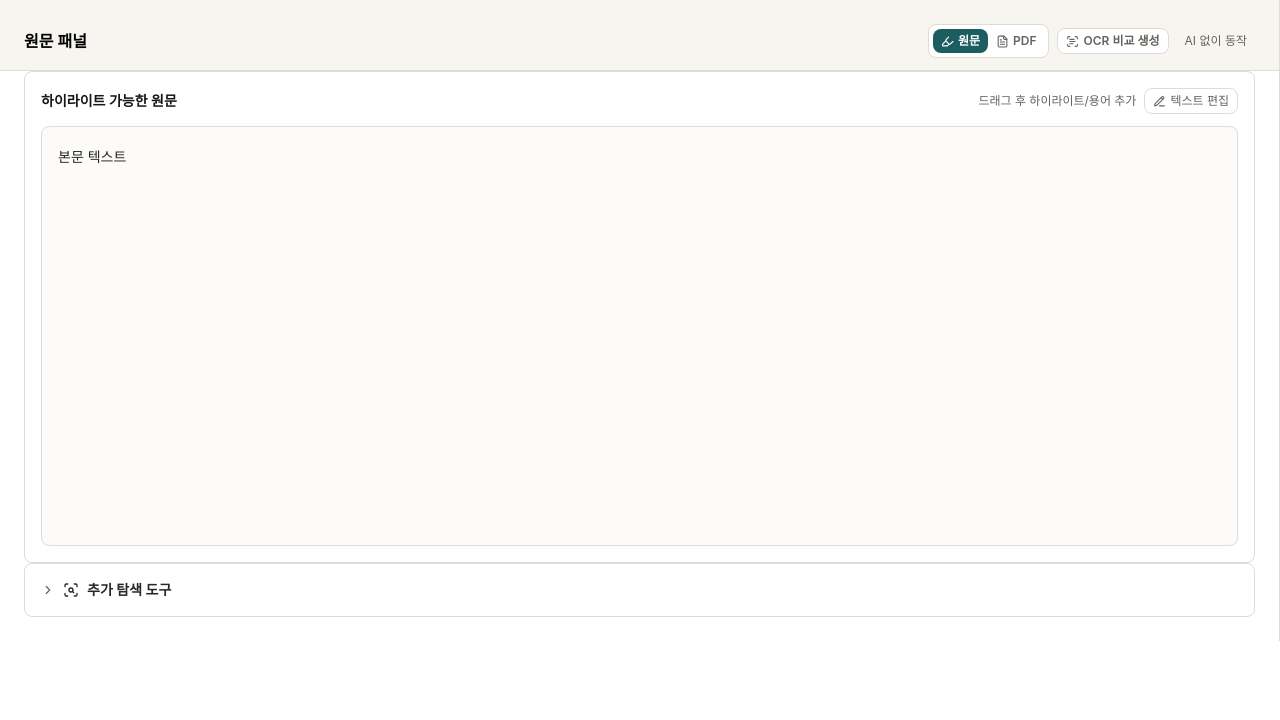
Test: SourcePanel OCR action › shows extracted vector table cells separately from the source text
This screenshot has width=1280, height=720.
What coordinates should you click on to do the following:
click the button "추가 탐색 도구"
I would click on:
 (106, 590)
Its box is x1=41 y1=580 x2=171 y2=600.
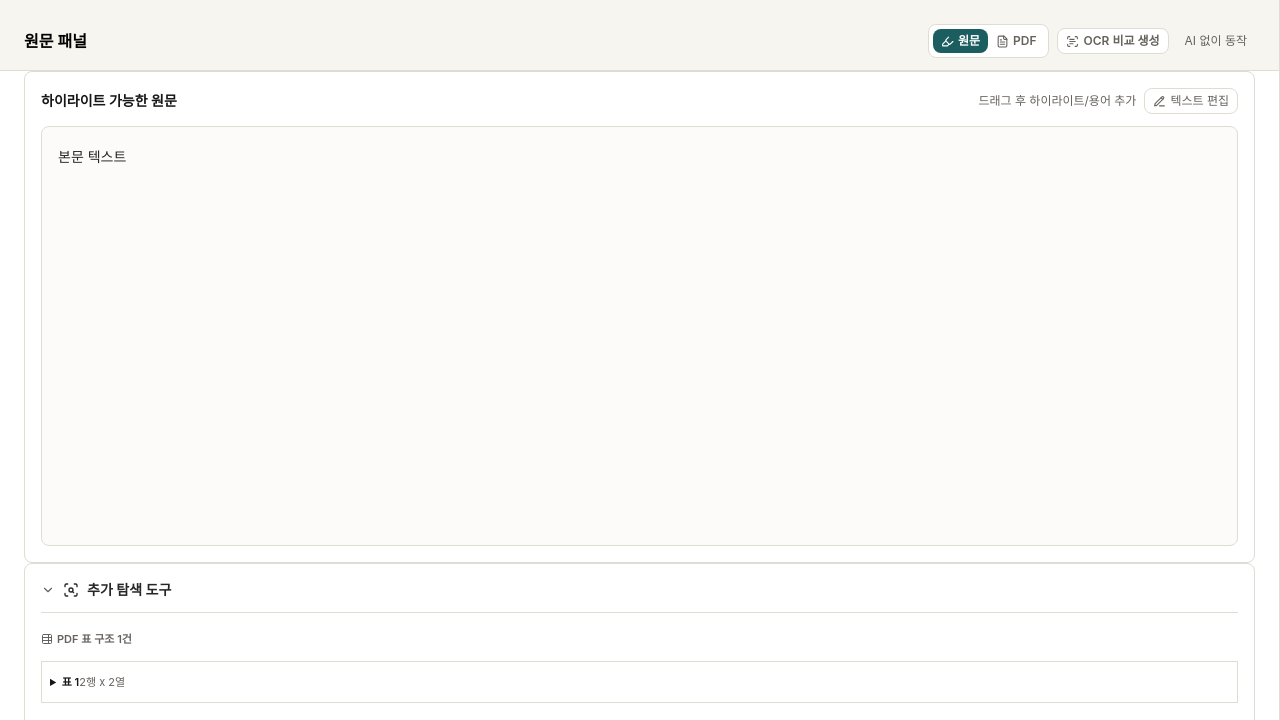
Expected: the text "PDF 표 구조 1건" is shown, x1=41 y1=632 x2=132 y2=646
